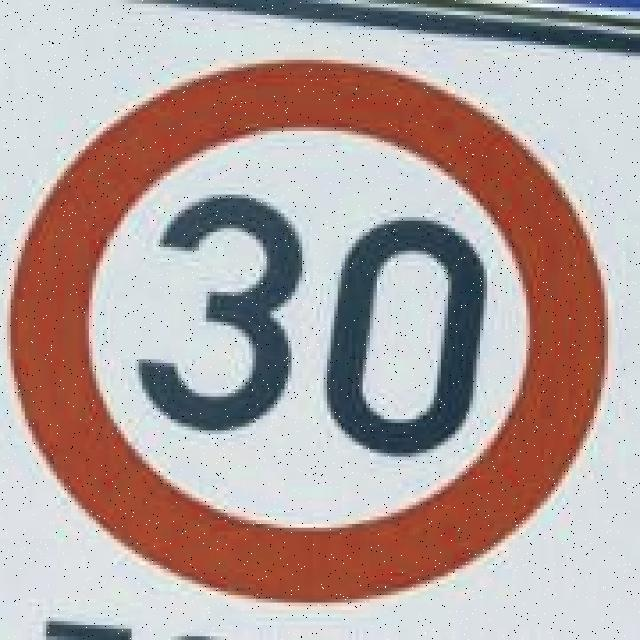Ograniczenie predkosci do 30: (7, 52, 601, 594)
